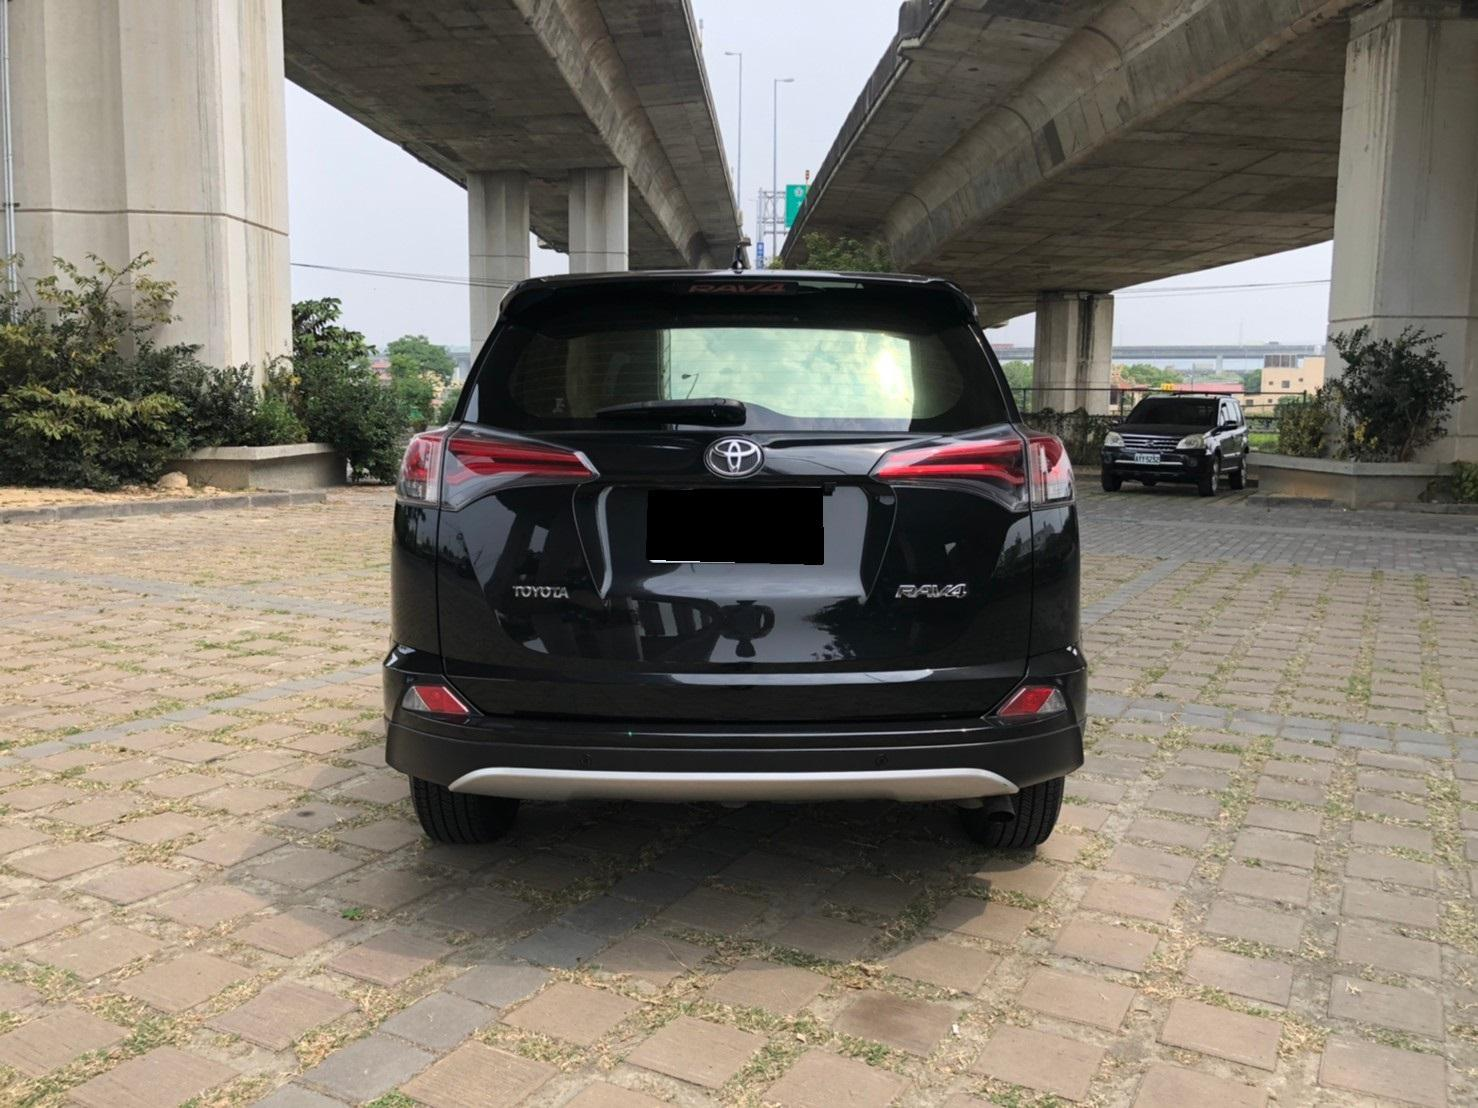toyota_rav4: (391, 255, 1080, 853)
